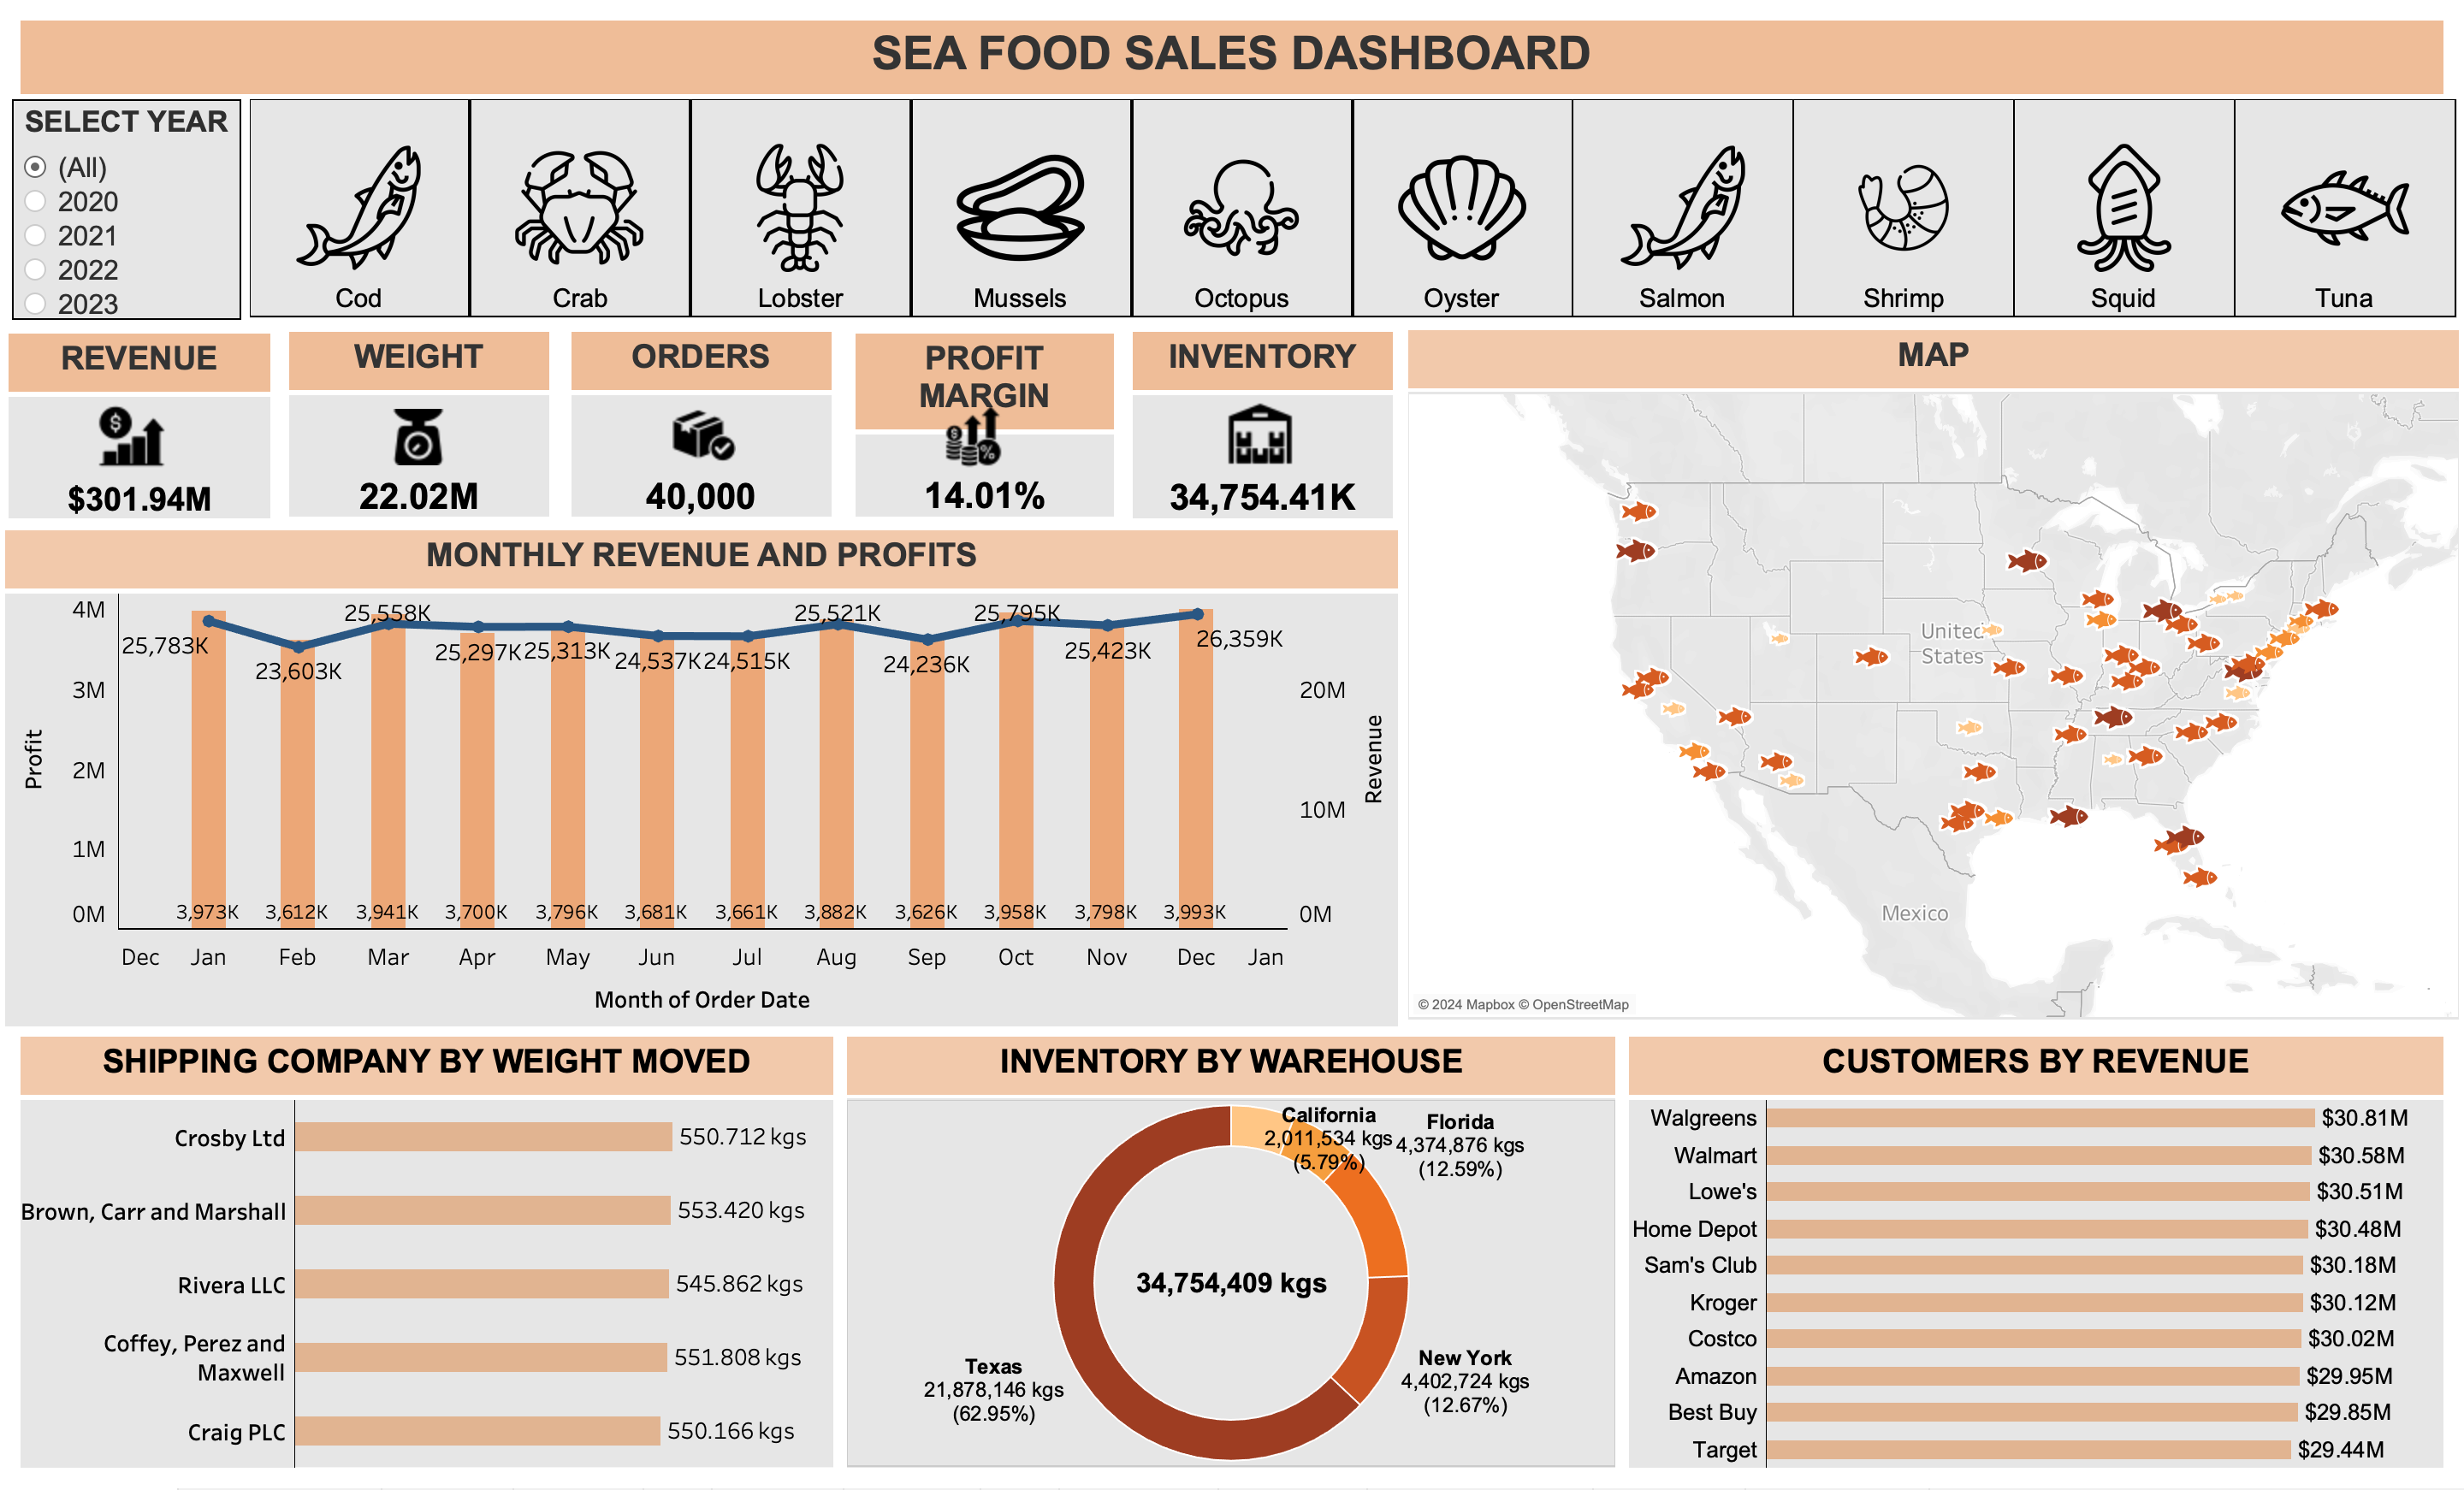

What the dashboard file says about the page in this screenshot:
{"tool":"tableau","page":{"name":"Dashboard 1","canvas":[1600,900],"ordinal":0},"visuals":[{"type":"worksheet","title":"TITLE","mark":"Text","box":[8,8,1584,615]},{"type":"filter","title":"ORDERS KPI ","param":"[federated.0elr6h00gnzvja1g3vkzh0r6xu2p].[yr:Order Date:ok]","box":[8,60,149,133]},{"type":"worksheet","title":"PRODUCTS","mark":"Shape","cols":["Product"],"box":[162,60,1433,133]},{"type":"worksheet","title":"MAP","mark":"Shape","box":[914,200,683,417]},{"type":"worksheet","title":"WEIGHT KPI ","mark":"Text","box":[188,201,169,112]},{"type":"worksheet","title":"ORDERS KPI ","mark":"Text","box":[371,201,169,112]},{"type":"worksheet","title":"INVENTORY KPI","mark":"Text","box":[736,201,169,113]},{"type":"worksheet","title":"REVENUE KPI","mark":"Text","box":[6,202,170,112]},{"type":"worksheet","title":"PROFIT MARGIN KPI","mark":"Text","box":[555,202,168,111]},{"type":"image","param":"Image/booking.png","box":[437,242,41,43]},{"type":"image","param":"Image/warehouse.png","box":[795,242,46,40]},{"type":"image","param":"Image/increase.png","box":[62,243,47,41]},{"type":"image","param":"Image/scale.png","box":[253,243,37,42]},{"type":"image","param":"Image/interest-rate.png","box":[610,244,45,39]},{"type":"worksheet","title":"R,P/Month","mark":"Automatic","rows":["Profit","Revenue"],"cols":["Order Date"],"box":[3,321,905,300]},{"type":"worksheet","title":"Shipping company","mark":"Automatic","rows":["Shipping Company"],"cols":["Weight"],"box":[8,623,536.9,269]},{"type":"worksheet","title":"Warehouse","mark":"Pie","rows":["Calculation_256564468743630853","Calculation_256564468743729158"],"box":[544.9,623,508.9,269]},{"type":"worksheet","title":"Customers","mark":"Bar","rows":["Customer"],"cols":["Revenue"],"box":[1053.8,623,538.2,269]}]}

Visuals, with their boxes on the page's 1600x900 design canvas (x1, y1, x2, y2). These are canvas units, not pixel positions in the 2464x1490 screenshot, which may show the page scaled, cropped or inside an application window:
"TITLE" worksheet (Text marks): left=8, top=8, right=1592, bottom=623
"ORDERS KPI " filter: left=8, top=60, right=157, bottom=193
"PRODUCTS" worksheet (Shape marks): left=162, top=60, right=1595, bottom=193
"MAP" worksheet (Shape marks): left=914, top=200, right=1597, bottom=617
"WEIGHT KPI " worksheet (Text marks): left=188, top=201, right=357, bottom=313
"ORDERS KPI " worksheet (Text marks): left=371, top=201, right=540, bottom=313
"INVENTORY KPI" worksheet (Text marks): left=736, top=201, right=905, bottom=314
"REVENUE KPI" worksheet (Text marks): left=6, top=202, right=176, bottom=314
"PROFIT MARGIN KPI" worksheet (Text marks): left=555, top=202, right=723, bottom=313
image: left=437, top=242, right=478, bottom=285
image: left=795, top=242, right=841, bottom=282
image: left=62, top=243, right=109, bottom=284
image: left=253, top=243, right=290, bottom=285
image: left=610, top=244, right=655, bottom=283
"R,P/Month" worksheet: left=3, top=321, right=908, bottom=621
"Shipping company" worksheet: left=8, top=623, right=545, bottom=892
"Warehouse" worksheet (Pie marks): left=545, top=623, right=1054, bottom=892
"Customers" worksheet (Bar marks): left=1054, top=623, right=1592, bottom=892
